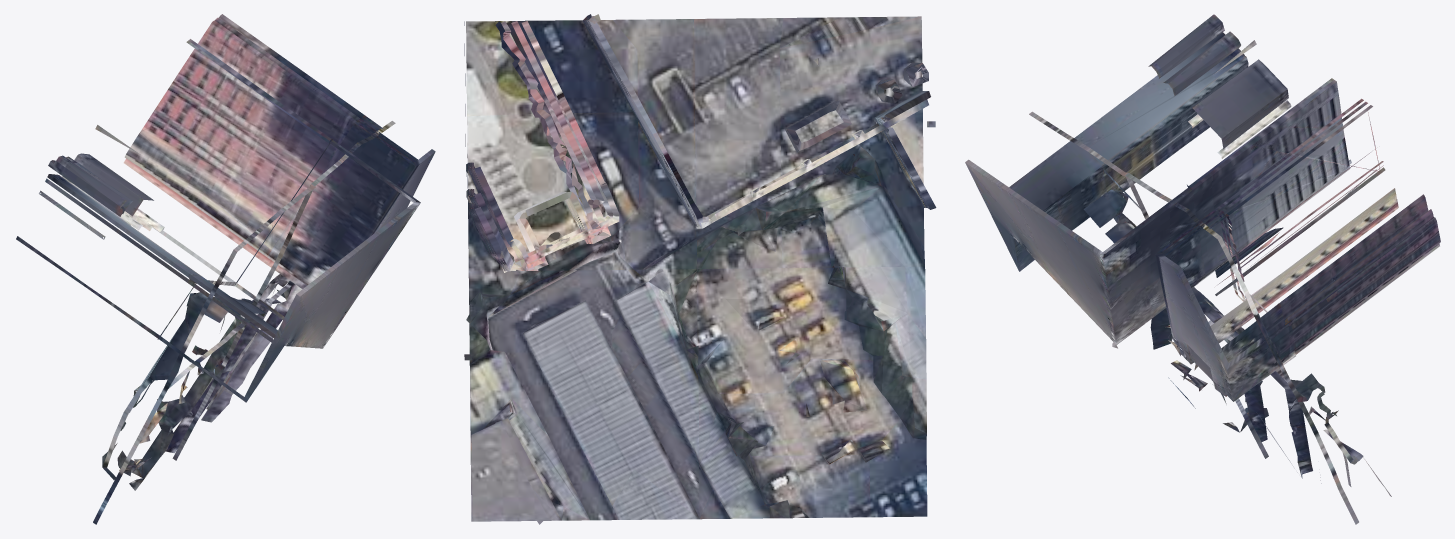
The picture shows the model from 3 angles, left to right: view 1: azimuth 30°, elevation 25°; view 2: azimuth 150°, elevation 25°; view 3: azimuth 270°, elevation 25°; orthographic projection. The views are drawn at different scales.
Size of the model in its own units: 91.09 by 87.83 by 92.96.
Materials: 3 (3 with a texture image).
